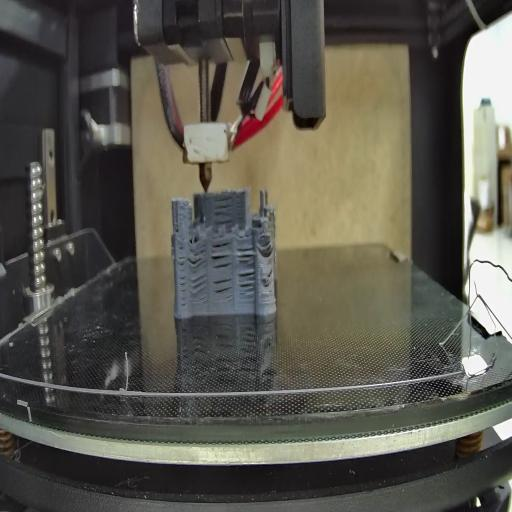cracks: (212, 240, 233, 272), (213, 195, 235, 225), (178, 243, 187, 309), (237, 271, 256, 297), (189, 242, 206, 268), (190, 272, 208, 295), (215, 278, 234, 298), (238, 246, 256, 266), (262, 239, 274, 256), (174, 218, 182, 235), (266, 269, 275, 280)
